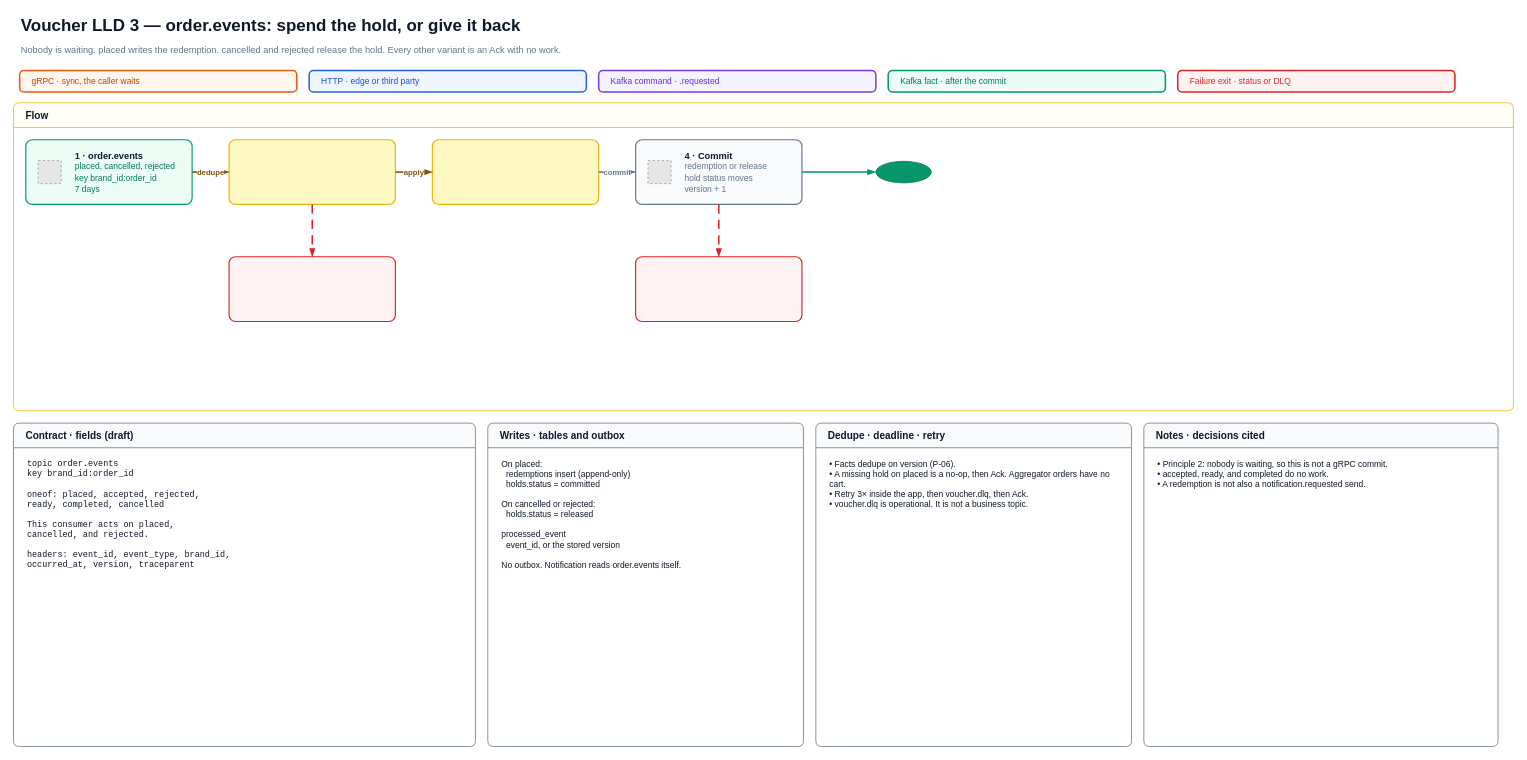
Some shapes in this 1527 by 760 pixel diagram are drawn without their labels. Grey dashed boxes stand in for pictures. The shapes that lost their labels are listed below. From the top down, each one's centre as x and y in pixels, then its label:
At point 312,172: "2 · Dedupe version newer? else Ack processed_event".
At point 515,172: "3 · Apply placed spends it cancel or reject returns it other variants skip".
At point 903,172: "Ack".
At point 312,289: "same version Ack no second redemption".
At point 718,289: "apply fails retry 3× with backoff then voucher.dlq then Ack".
